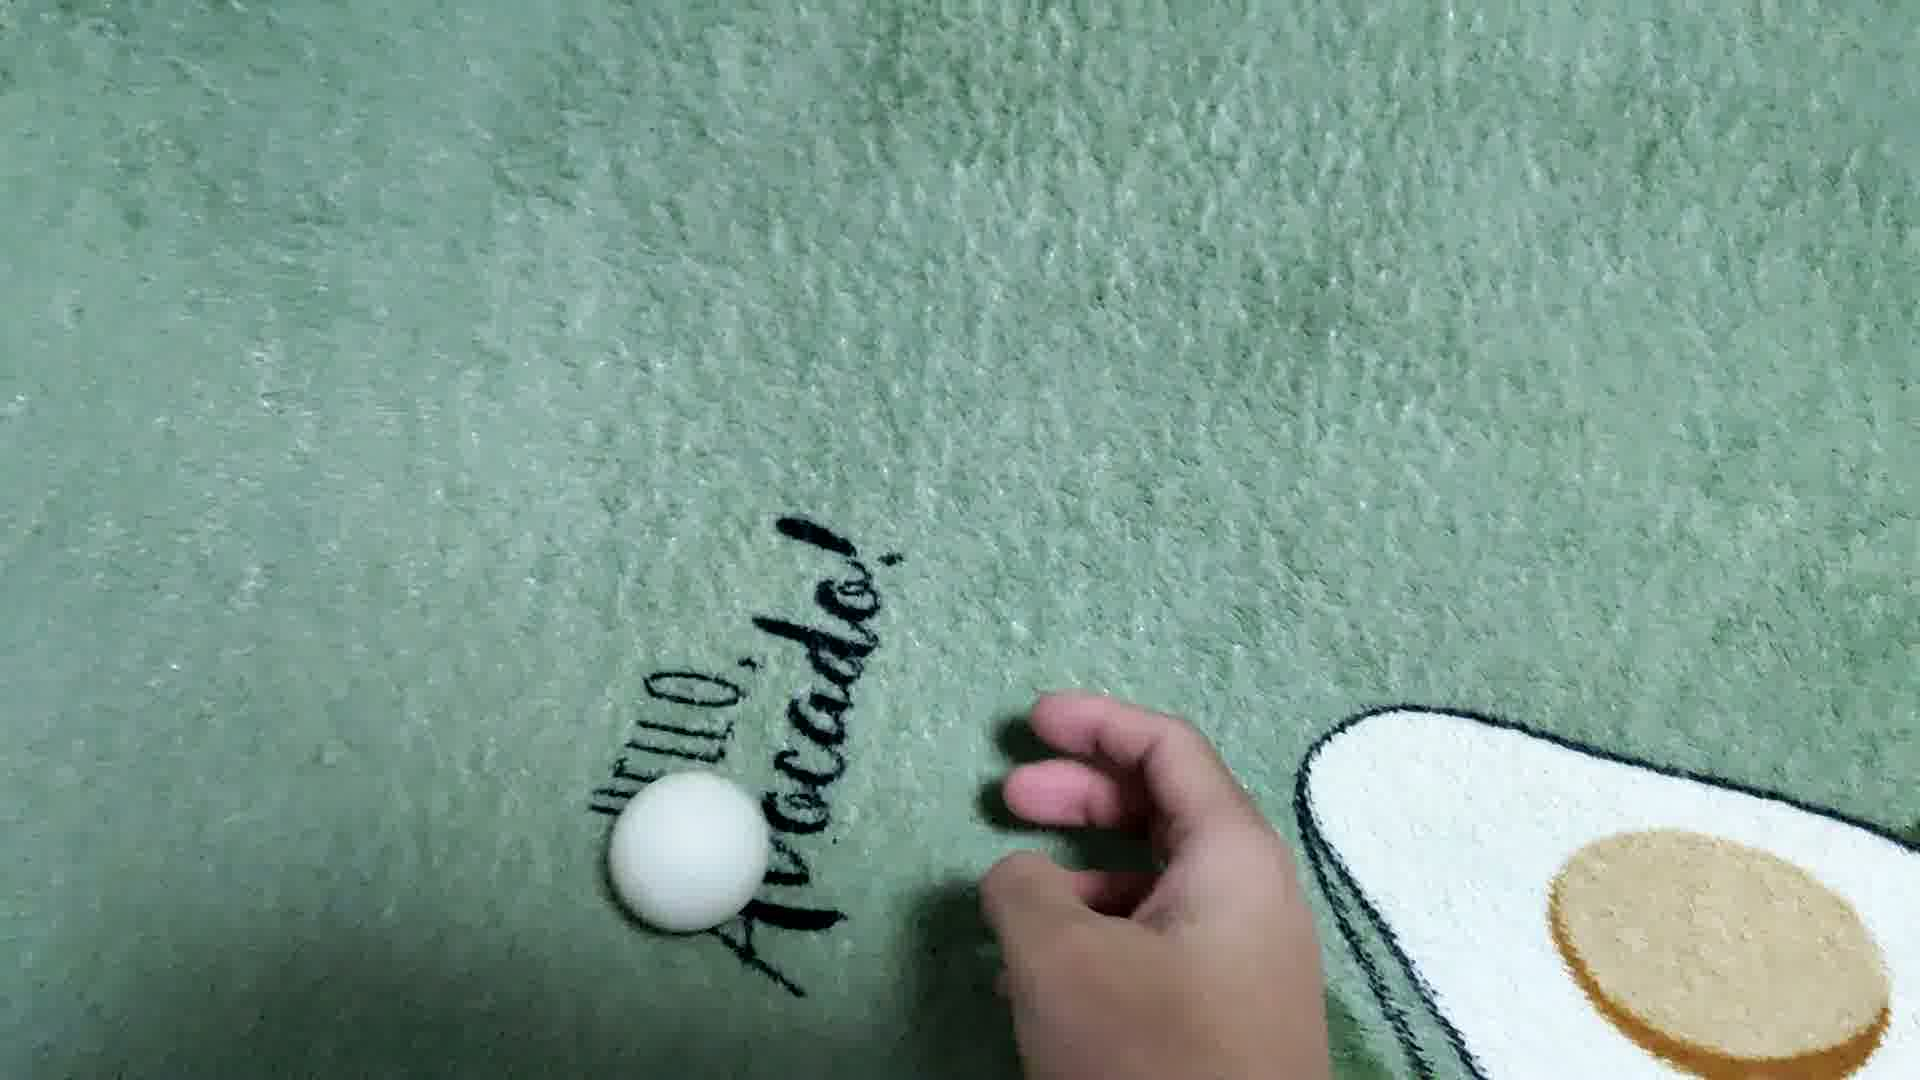Ball: (607, 774, 781, 928)
